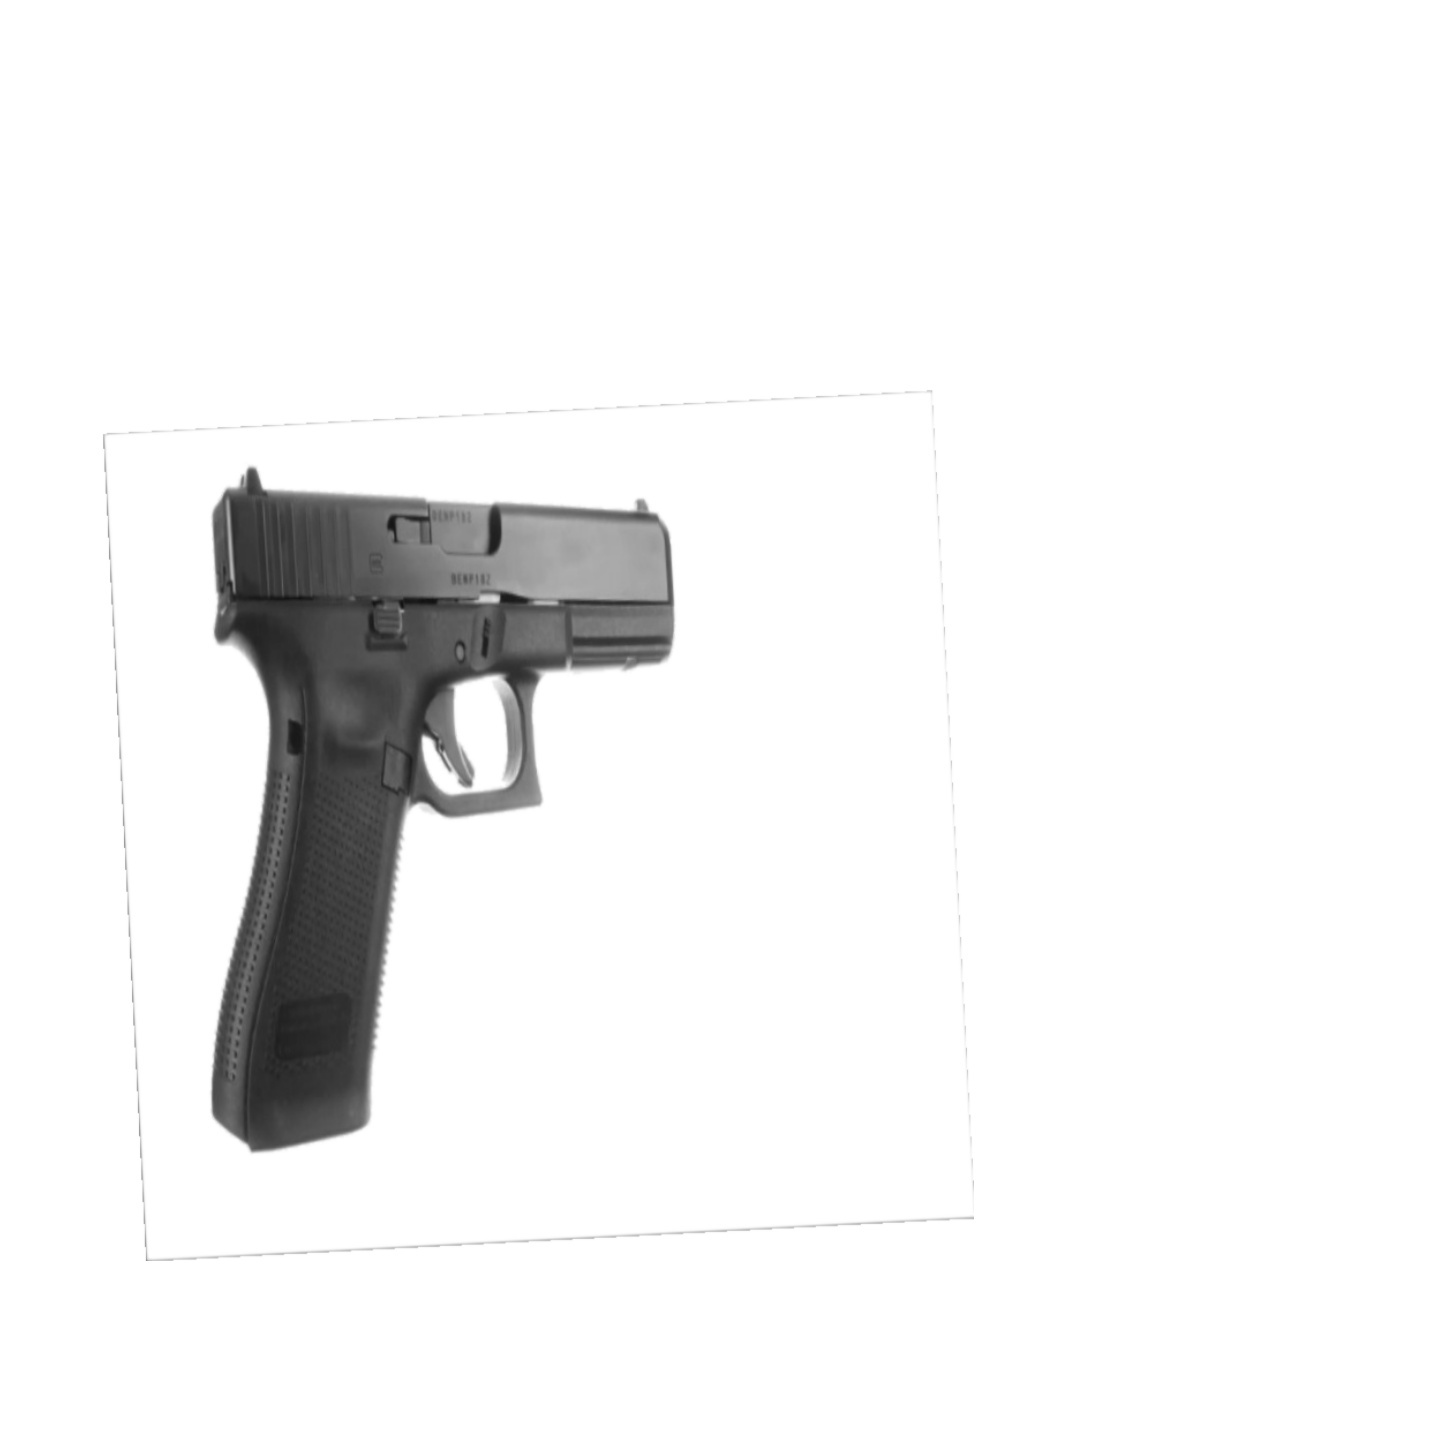gun: (159, 450, 694, 1165)
